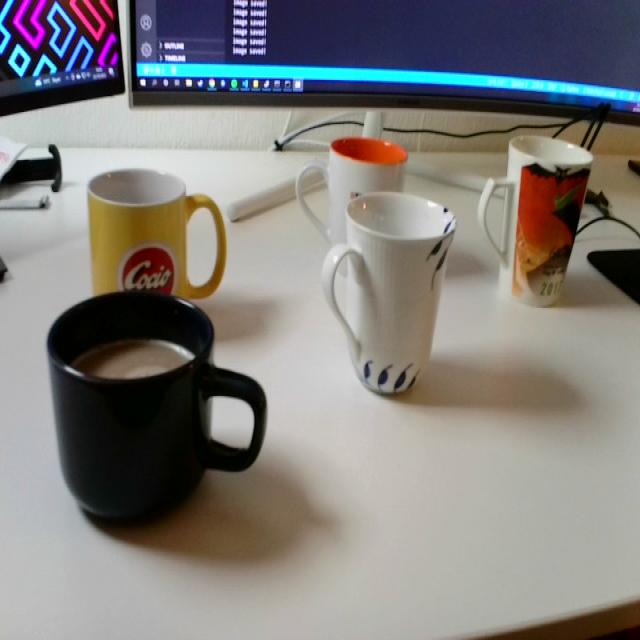Cocio Cup: (86, 169, 226, 300)
Halloween cup: (492, 135, 594, 306)
Hand painted cup: (310, 189, 460, 401)
White Cup: (296, 134, 409, 246)
cup: (44, 285, 272, 526)
